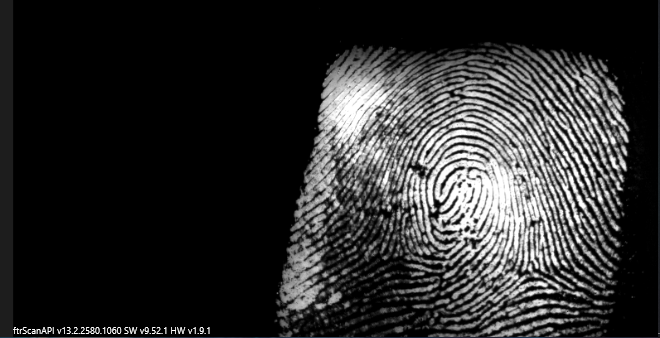deltas: (372, 223, 427, 274), (506, 243, 558, 294)
nucleo: (426, 156, 492, 210)
